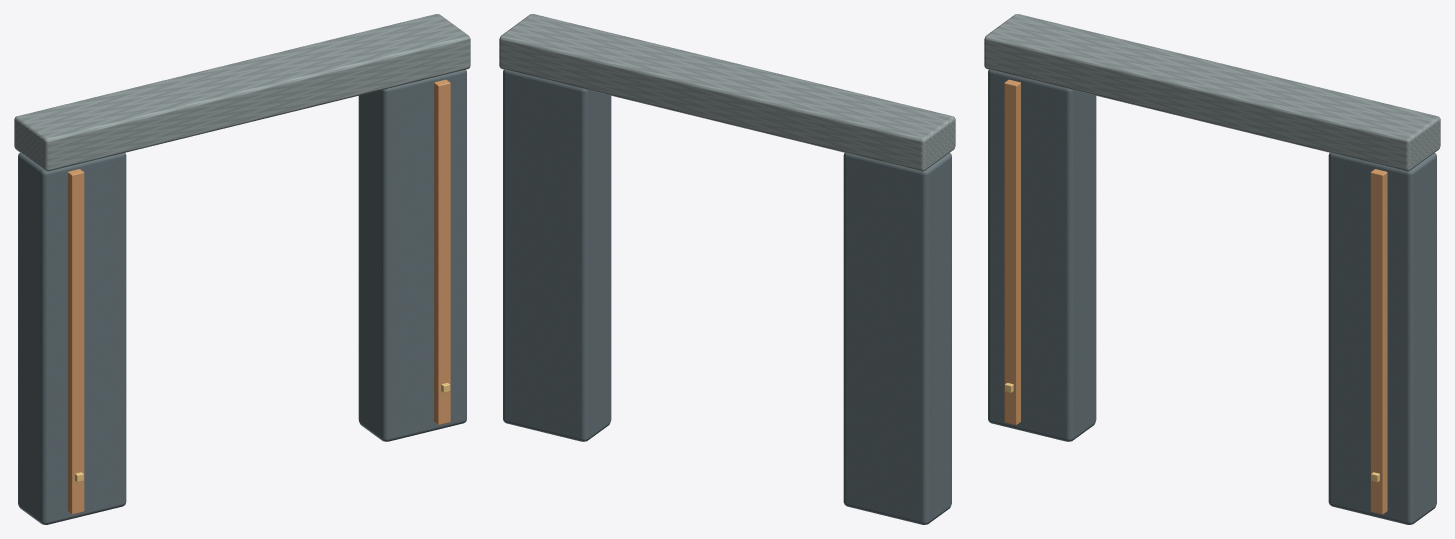
File: dwarven-runeforge-dungeon-dwarven-runeforge-dungeon-ha-42e54556__28589.glb
3 renders of one model, left to right at view 1: azimuth 30°, elevation 25°; view 2: azimuth 150°, elevation 25°; view 3: azimuth 330°, elevation 25°, orthographic.
Parts seen in each view (by area): view 1: dwarven-runeforge-dungeon-hall-doorway; view 2: dwarven-runeforge-dungeon-hall-doorway; view 3: dwarven-runeforge-dungeon-hall-doorway.
Part boxes in pixels (x1,y1,x2,y2): dwarven-runeforge-dungeon-hall-doorway: [14, 14, 470, 524]; dwarven-runeforge-dungeon-hall-doorway: [499, 14, 955, 524]; dwarven-runeforge-dungeon-hall-doorway: [984, 14, 1440, 524].
Bounding box in the file's own units: 4 × 3.5 × 0.6176.
Materials: 4 (2 with a texture image).
